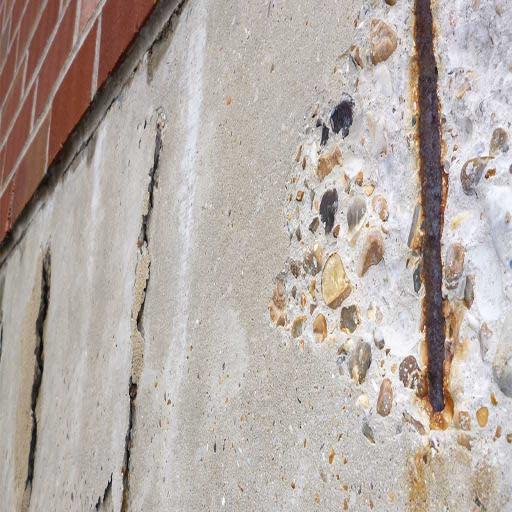spalling: (270, 0, 510, 476), (120, 124, 162, 512), (22, 240, 51, 512)
